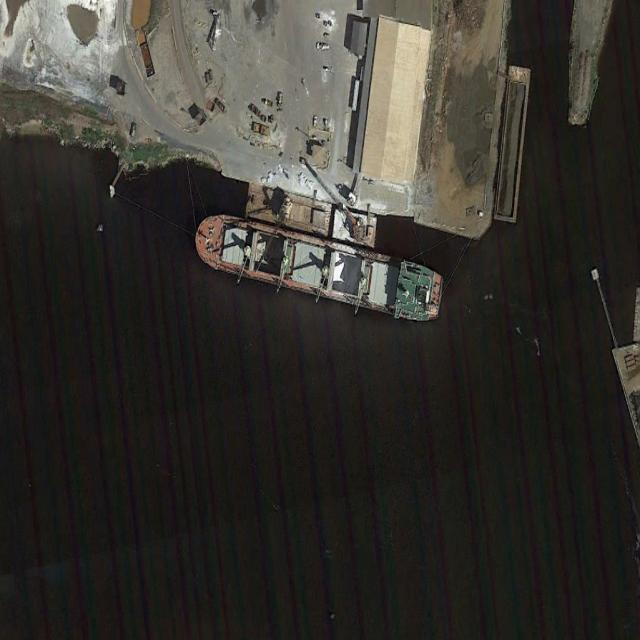Cargo: (190, 204, 446, 328)
